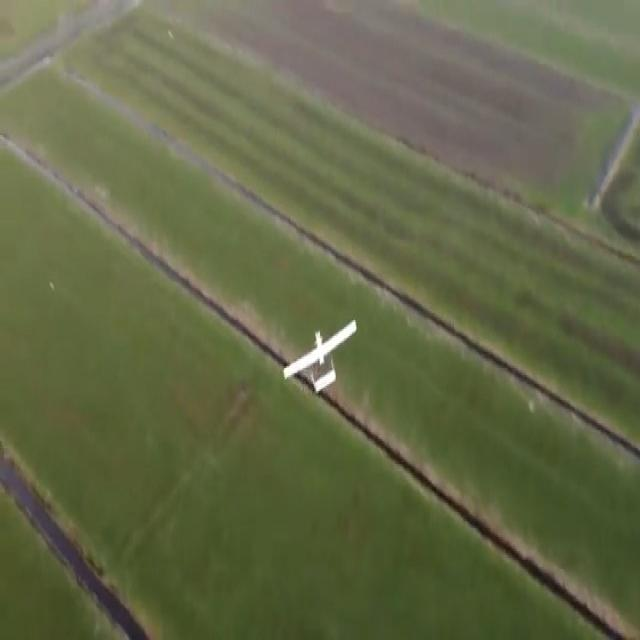iha: (313, 342, 327, 371)
